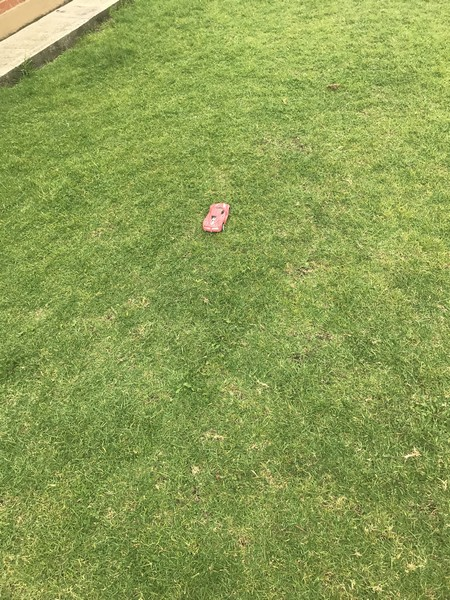RC: (200, 201, 233, 236)
